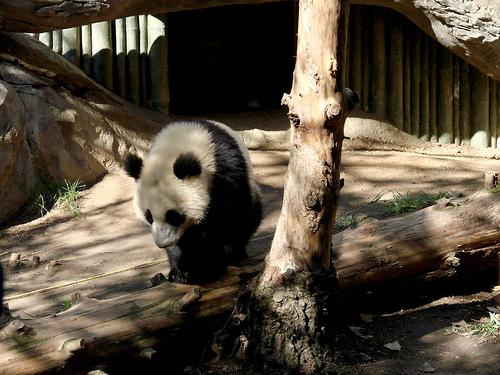panda: (124, 119, 262, 283)
